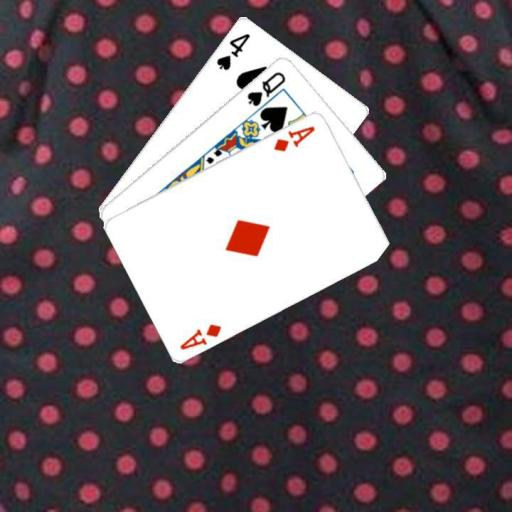4S: (213, 30, 252, 72)
AD: (270, 122, 317, 153), (177, 320, 223, 351)
QS: (244, 68, 287, 108)
